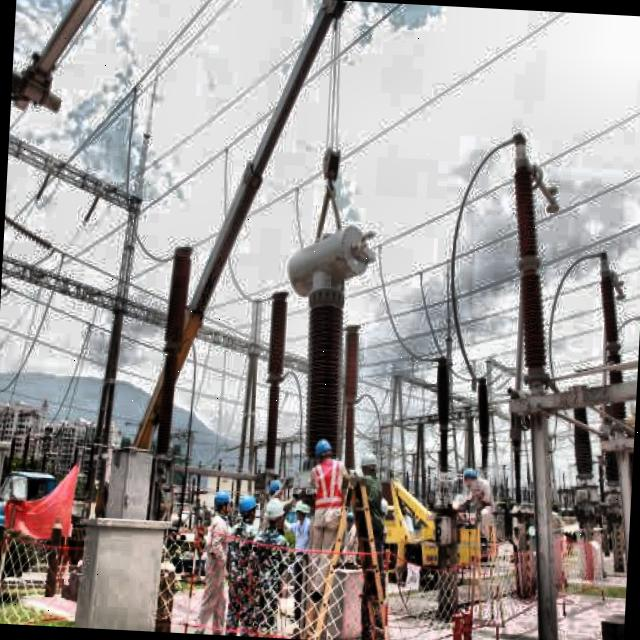helmet: (264, 498, 291, 536), (231, 494, 261, 528), (308, 436, 337, 468), (210, 485, 236, 518), (358, 448, 382, 478)
